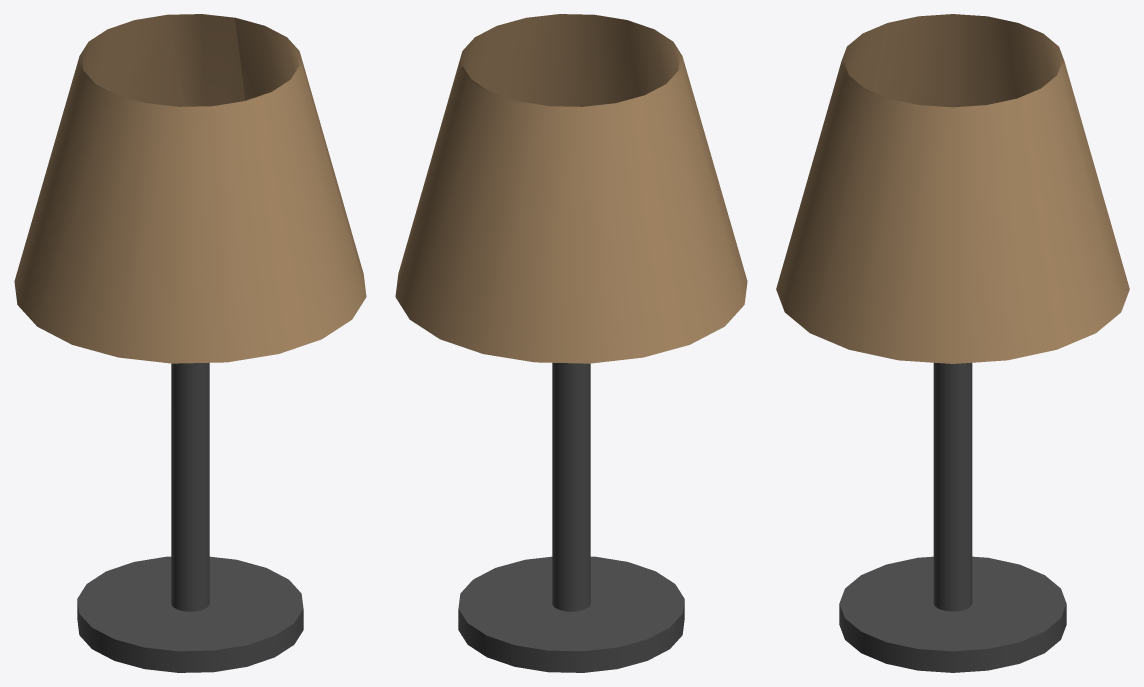
File: Lamp.fbx
3 renders of one model, left to right at view 1: azimuth 30°, elevation 25°; view 2: azimuth 150°, elevation 25°; view 3: azimuth 270°, elevation 25°, orthographic.
Visible parts, largest first — view 1: pCylinder7; view 2: pCylinder7; view 3: pCylinder7.
Part boxes in pixels (x1,y1,x2,y2): pCylinder7: (14, 14, 366, 672); pCylinder7: (395, 14, 747, 672); pCylinder7: (776, 14, 1129, 672).
Bounding box in the file's own units: 2 × 3.52 × 2.
